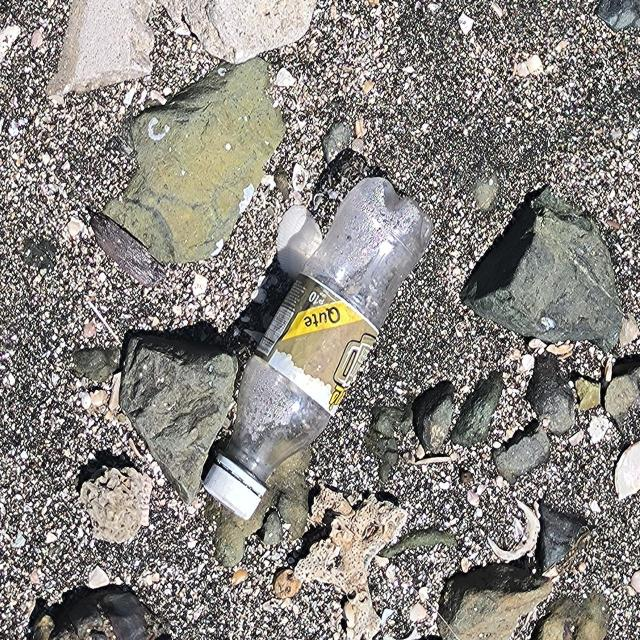plastic_waste: (200, 174, 435, 521)
